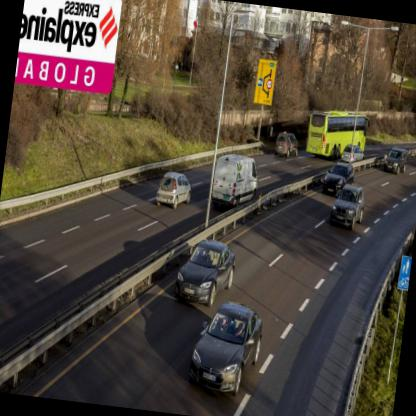bus: (302, 110, 368, 166)
car: (186, 299, 263, 396), (175, 236, 239, 307), (332, 182, 365, 230), (156, 169, 192, 211), (322, 160, 353, 196), (274, 131, 300, 160), (383, 146, 408, 172)
truck: (209, 152, 262, 212)
